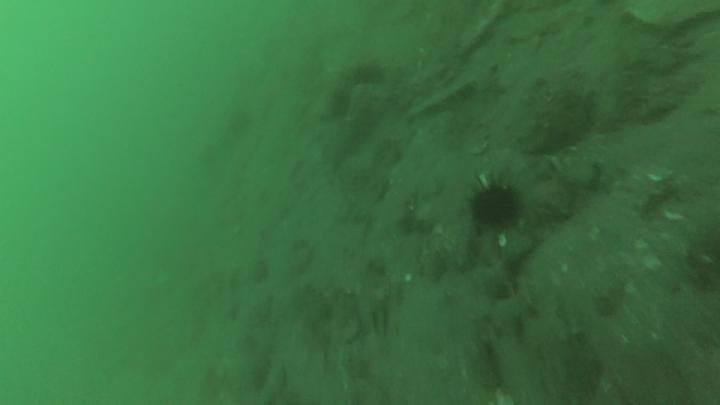echinus: (476, 185, 518, 226), (352, 66, 388, 84), (330, 93, 351, 115)
scallop: (498, 236, 509, 248)
